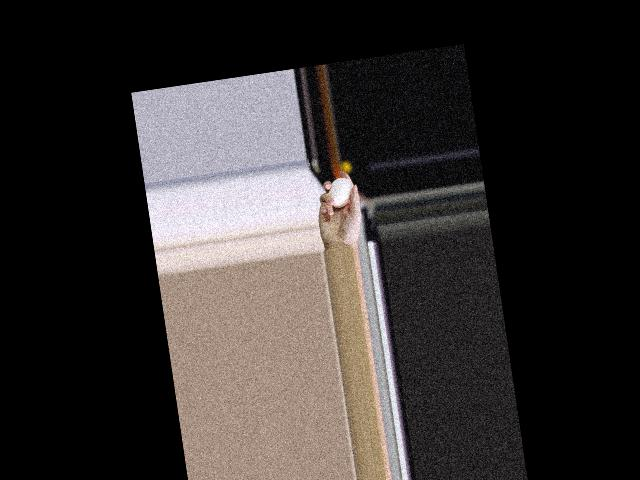egg: (326, 175, 354, 208)
